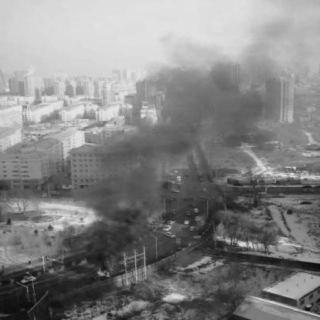Smoke: (169, 60, 249, 119)
